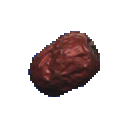gd: (16, 23, 126, 109)
